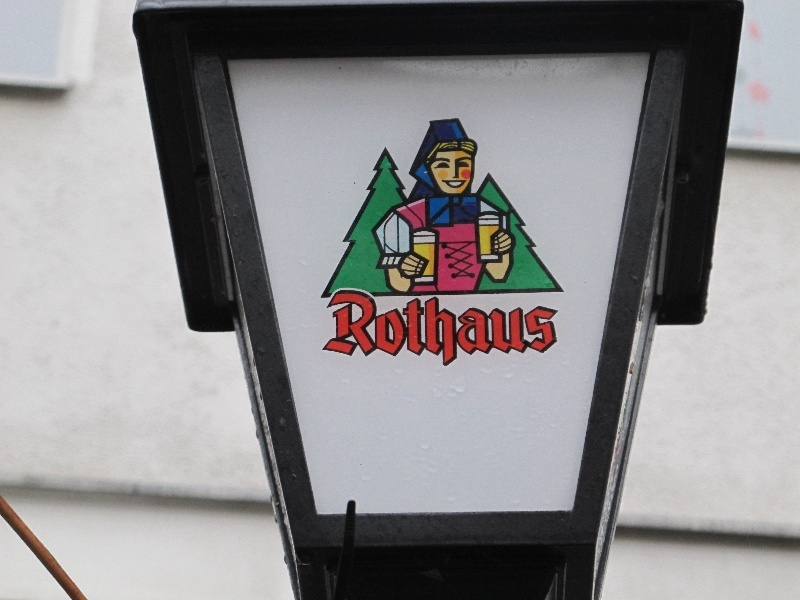text: (545, 284, 561, 370), (321, 284, 336, 370), (337, 284, 352, 370), (353, 284, 368, 370), (369, 284, 384, 370), (385, 284, 400, 370), (401, 284, 416, 370), (417, 284, 432, 370), (433, 284, 448, 370), (449, 284, 464, 370), (465, 284, 480, 370), (481, 284, 496, 370), (497, 284, 512, 370), (513, 284, 528, 370), (529, 284, 544, 370)
